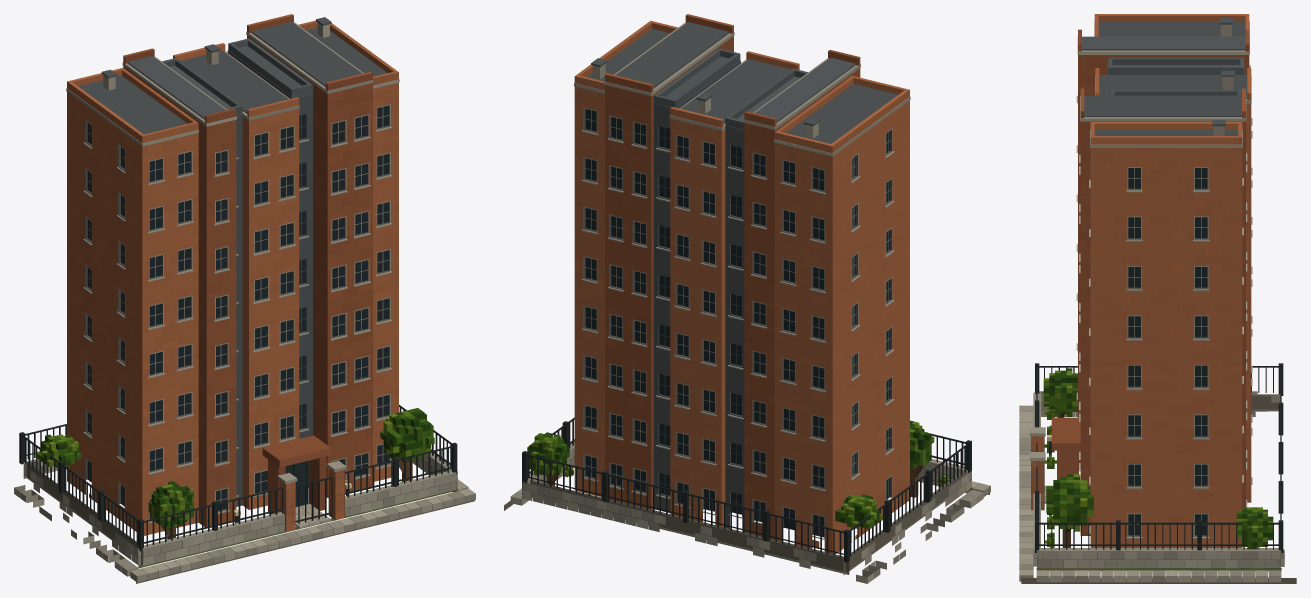
File: SM_StreetFrontage_132.fbx
The picture shows the model from 3 angles, left to right: view 1: azimuth 30°, elevation 25°; view 2: azimuth 150°, elevation 25°; view 3: azimuth 270°, elevation 25°; orthographic projection. The views are drawn at different scales.
Parts seen in each view (by area): view 1: SM_StreetFrontage_132; view 2: SM_StreetFrontage_132; view 3: SM_StreetFrontage_132.
Part boxes in pixels (x1,y1,x2,y2): SM_StreetFrontage_132: [14, 14, 475, 583]; SM_StreetFrontage_132: [504, 14, 990, 583]; SM_StreetFrontage_132: [1019, 14, 1296, 583].
Size of the model in its own units: 32 by 21.95 by 38.06.
